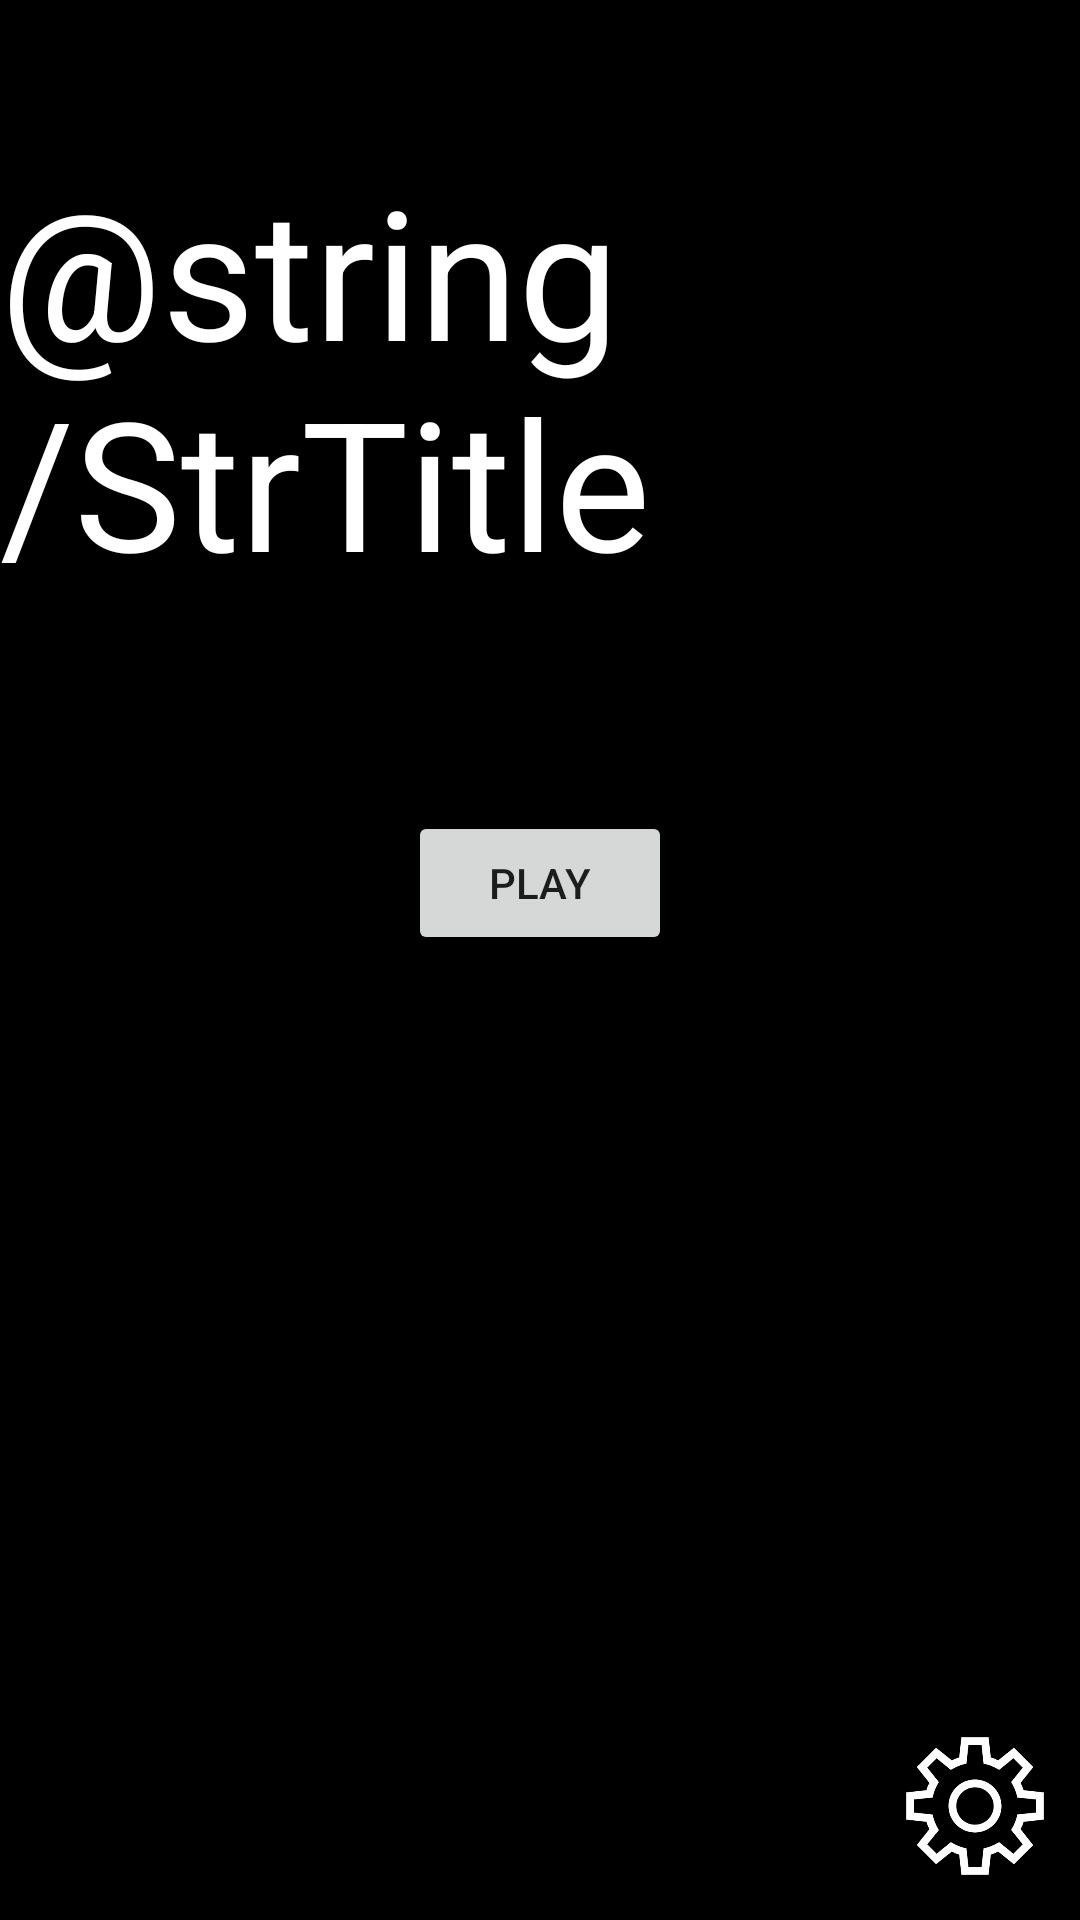

Named icons in this screenshot (1080*1920) and their bounding boxes, box(x1, y1, x2, y2):
Go to settings activity: box(906, 1737, 1044, 1875)
